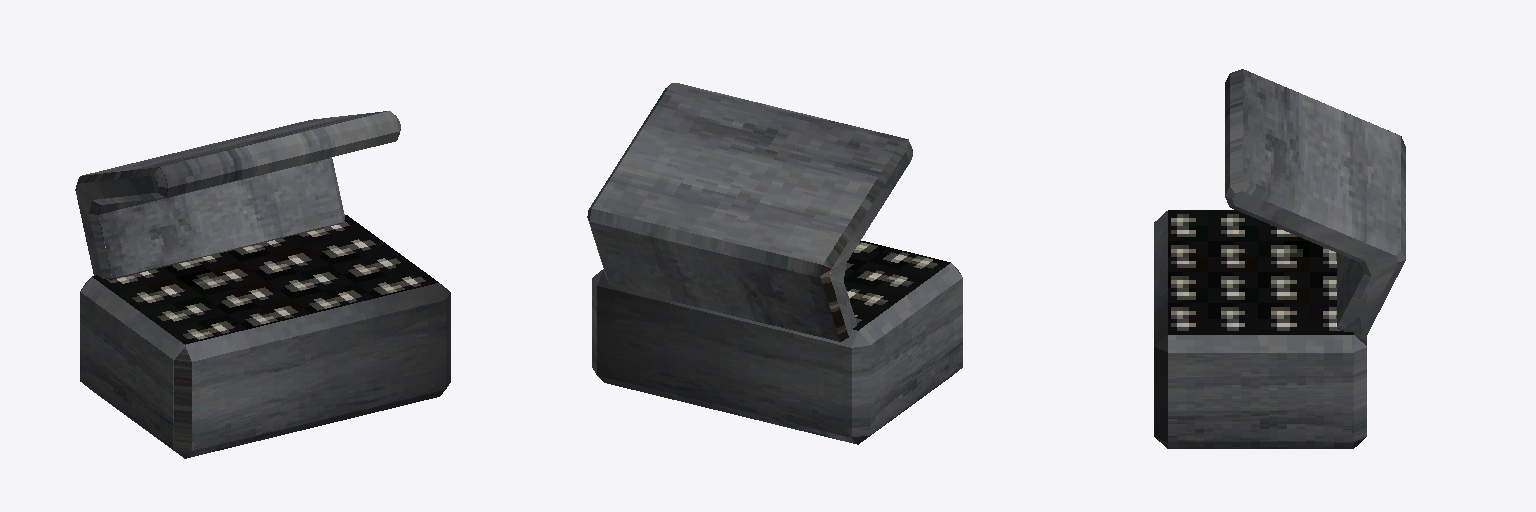
The picture shows the model from 3 angles: view 1: azimuth 30°, elevation 25°; view 2: azimuth 150°, elevation 25°; view 3: azimuth 270°, elevation 25°; orthographic projection.
Visible parts, largest first — view 1: ammo_deserteagle.ammo_deserteagle.smd.mesh_0; view 2: ammo_deserteagle.ammo_deserteagle.smd.mesh_0; view 3: ammo_deserteagle.ammo_deserteagle.smd.mesh_0.
Boxes of the visible parts, x1=… form: ammo_deserteagle.ammo_deserteagle.smd.mesh_0: x1=75, y1=111, x2=450, y2=458; ammo_deserteagle.ammo_deserteagle.smd.mesh_0: x1=587, y1=83, x2=962, y2=444; ammo_deserteagle.ammo_deserteagle.smd.mesh_0: x1=1154, y1=69, x2=1405, y2=448.
Bounding box in the file's own units: 17.88 × 16.08 × 14.04.
Materials: 1 (1 with a texture image).